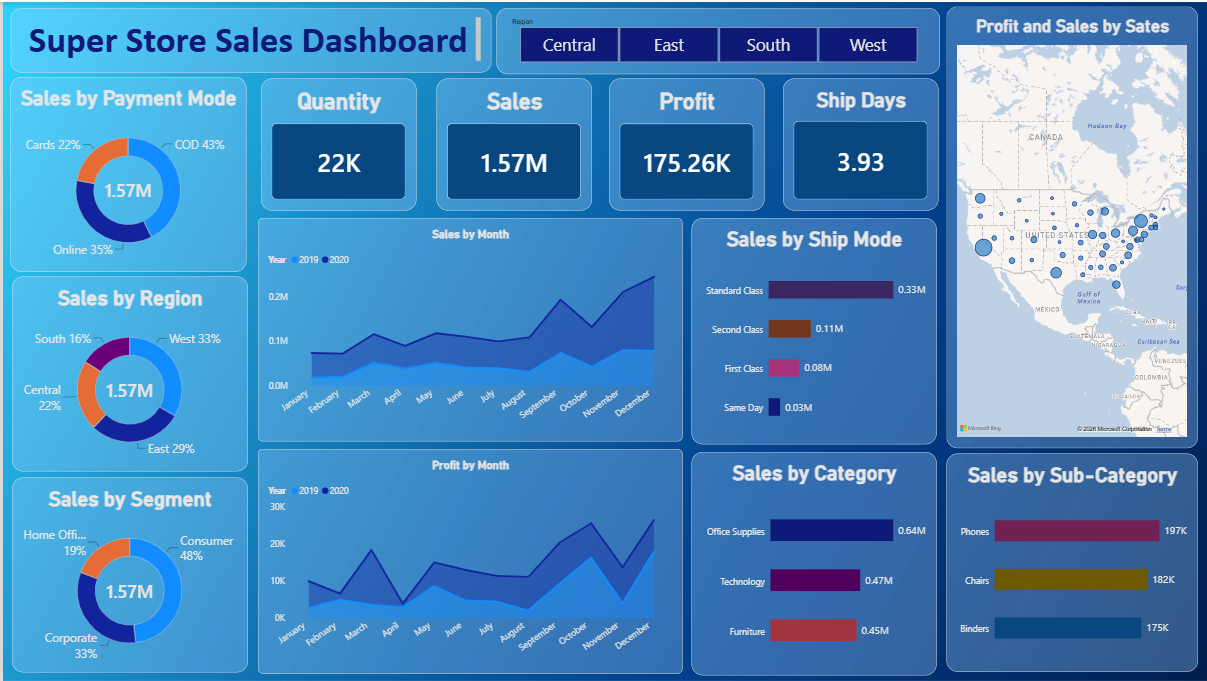

The page's visual inventory and layout, read from the dashboard file:
{"tool":"powerbi","page":{"name":"Page 1","canvas":[1920,1080],"ordinal":0},"visuals":[{"type":"barChart","title":"Sales by Category","fields":{"Category":["Sales_data.Category"],"Y":["Sum(Sales_data.Sales)"]},"box":[1095,715,390,355],"z":0},{"type":"barChart","title":"Sales by Sub-Category","fields":{"Category":["Sales_data.Sub-Category"],"Y":["Sum(Sales_data.Sales)"]},"box":[1500,717.5,400,347.5],"z":1000},{"type":"barChart","title":"Sales by Ship Mode","fields":{"Category":["Sales_data.Ship Mode"],"Y":["Sum(Sales_data.Sales)"]},"box":[1095,342.5,390,360],"z":2000},{"type":"stackedAreaChart","title":"Sales by Month","fields":{"Category":["Sales_data.Order Date.Variation.Date Hierarchy.Month","Sales_data.Order Date.Variation.Date Hierarchy.Day"],"Series":["Sales_data.Order Date.Variation.Date Hierarchy.Year"],"Y":["Sum(Sales_data.Sales)"]},"box":[405,342.5,675,355],"z":3000},{"type":"stackedAreaChart","title":"Profit by Month","fields":{"Category":["Sales_data.Order Date.Variation.Date Hierarchy.Month","Sales_data.Order Date.Variation.Date Hierarchy.Day"],"Series":["Sales_data.Order Date.Variation.Date Hierarchy.Year"],"Y":["Sum(Sales_data.Profit)"]},"box":[405,710,675,357.5],"z":4000},{"type":"donutChart","title":"Sales by Segment","fields":{"Category":["Sales_data.Segment"],"Y":["Sum(Sales_data.Sales)"]},"box":[15,757.5,375,310],"z":5000},{"type":"map","title":"Profit and Sales by Sates","fields":{"Category":["Sales_data.State"],"Size":["Sum(Sales_data.Sales)"]},"box":[1500,7.5,400,702.5],"z":6000},{"type":"donutChart","title":"Sales by Payment Mode","fields":{"Category":["Sales_data.Payment Mode"],"Y":["Sum(Sales_data.Sales)"]},"box":[12.5,120,375,310],"z":7000},{"type":"donutChart","title":"Sales by Region","fields":{"Category":["Sales_data.Region"],"Y":["Sum(Sales_data.Sales)"]},"box":[15,437.5,375,310],"z":8000},{"type":"slicer","fields":{"Values":["Sales_data.Region"]},"box":[785,10,705,105],"z":9000},{"type":"textbox","box":[12.5,10,765,102.5],"z":10000},{"type":"cardVisual","title":"Sales","fields":{"Data":["Sum(Sales_data.Sales)"]},"box":[690,122.5,247.5,210],"z":11000},{"type":"cardVisual","title":"Profit","fields":{"Data":["Sum(Sales_data.Profit)"]},"box":[965,122.5,247.5,210],"z":12000},{"type":"cardVisual","title":"Quantity","fields":{"Data":["Sum(Sales_data.Quantity)"]},"box":[410,122.5,247.5,210],"z":13000},{"type":"cardVisual","title":"Ship Days","fields":{"Data":["Avg(Sales_data.AvgDelivery)"]},"box":[1240,122.5,247.5,210],"z":14000}]}

Visuals, with their boxes in screenshot pixels (x1, y1, x2, y2), scaled from the page's 1920x1080 canvas onto the 1207x681 screenshot:
"Sales by Category" barChart: (688,451,934,675)
"Sales by Sub-Category" barChart: (943,452,1194,672)
"Sales by Ship Mode" barChart: (688,216,934,443)
"Sales by Month" stackedAreaChart: (255,216,679,440)
"Profit by Month" stackedAreaChart: (255,448,679,673)
"Sales by Segment" donutChart: (9,478,245,673)
"Profit and Sales by Sates" map: (943,5,1194,448)
"Sales by Payment Mode" donutChart: (8,76,244,271)
"Sales by Region" donutChart: (9,276,245,471)
slicer - Sales_data.Region: (493,6,937,73)
textbox: (8,6,489,71)
"Sales" cardVisual: (434,77,589,210)
"Profit" cardVisual: (607,77,762,210)
"Quantity" cardVisual: (258,77,413,210)
"Ship Days" cardVisual: (780,77,935,210)
